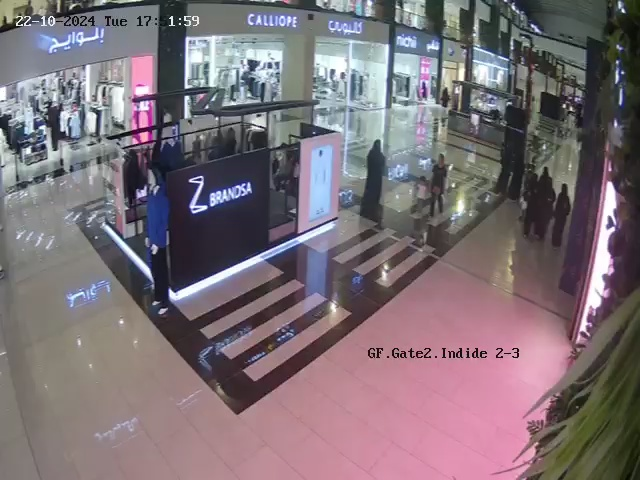female: (359, 138, 386, 215), (532, 168, 555, 241), (428, 153, 449, 218), (551, 183, 571, 250), (521, 171, 539, 239)
other: (127, 153, 182, 317)
